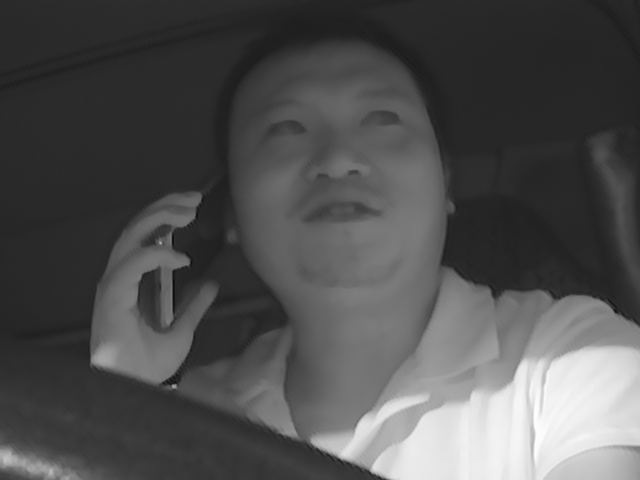hand: (93, 191, 221, 381)
